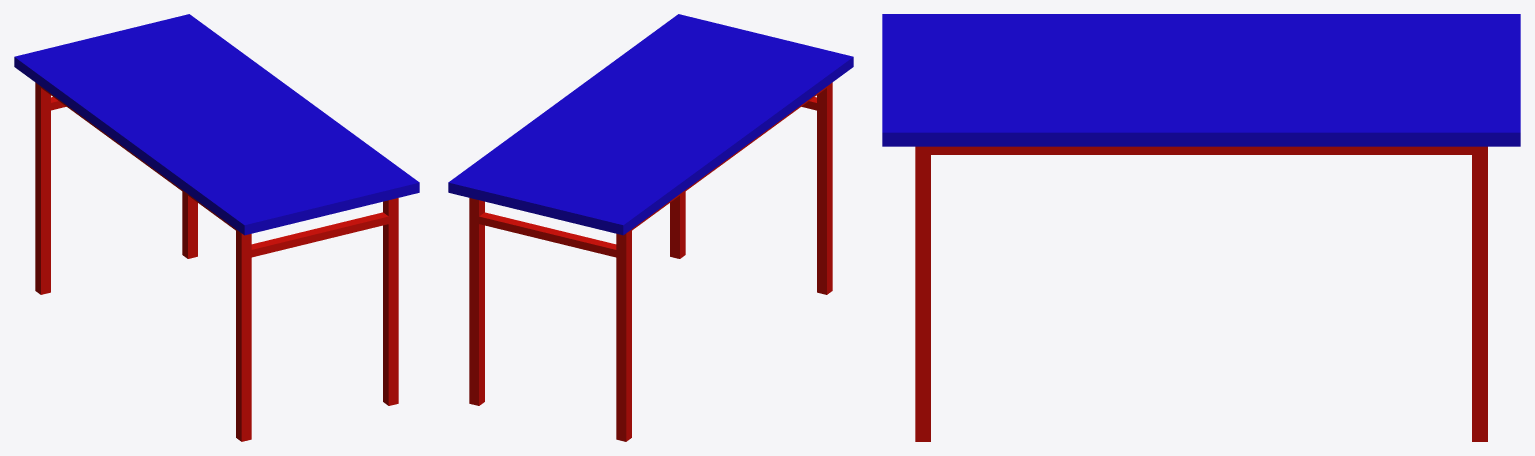
File: bench.fbx
3 views of the same model, side by side, from view 1: azimuth 30°, elevation 25°; view 2: azimuth 150°, elevation 25°; view 3: azimuth 270°, elevation 25° (orthographic). The views are drawn at different scales.
Visible parts, largest first — view 1: Cube.001; view 2: Cube.001; view 3: Cube.001.
Boxes of the visible parts, x1=… form: Cube.001: x1=14, y1=14, x2=419, y2=441; Cube.001: x1=448, y1=14, x2=853, y2=441; Cube.001: x1=882, y1=14, x2=1520, y2=441.
Size of the model in its own units: 306 by 381 by 698.
